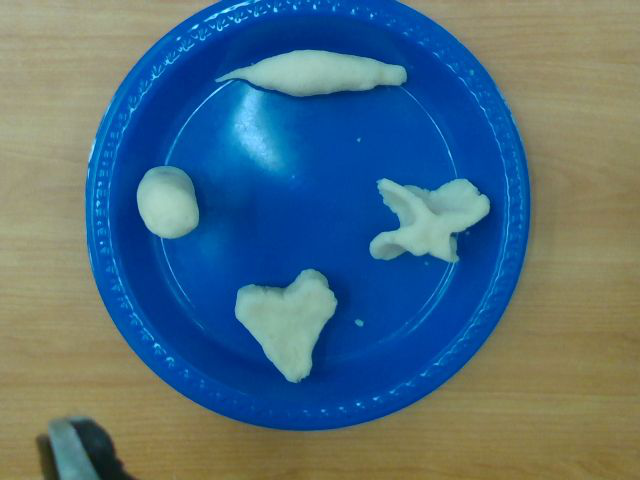mashed_potato: (234, 269, 337, 381), (369, 178, 489, 263), (215, 50, 407, 96), (137, 167, 199, 238)
